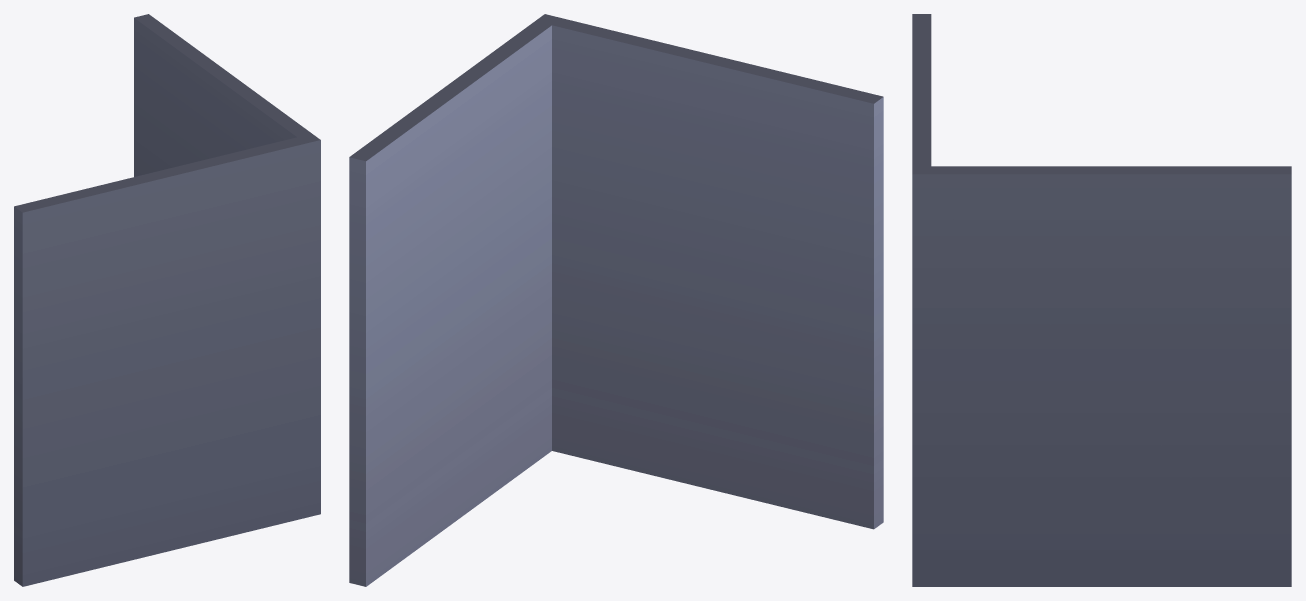
The model's file is wall-corner.optimized.glb.
3 views of the same model, side by side, from view 1: azimuth 30°, elevation 25°; view 2: azimuth 150°, elevation 25°; view 3: azimuth 270°, elevation 25° (orthographic). The views are drawn at different scales.
Parts seen in each view (by area): view 1: wall-corner; view 2: wall-corner; view 3: wall-corner.
Part boxes in pixels (x1=…): wall-corner: x1=14, y1=14, x2=320, y2=586; wall-corner: x1=349, y1=14, x2=883, y2=586; wall-corner: x1=912, y1=14, x2=1291, y2=586.
Size of the model in its own units: 2 by 2.4 by 2.
1 material, 1 textured.
